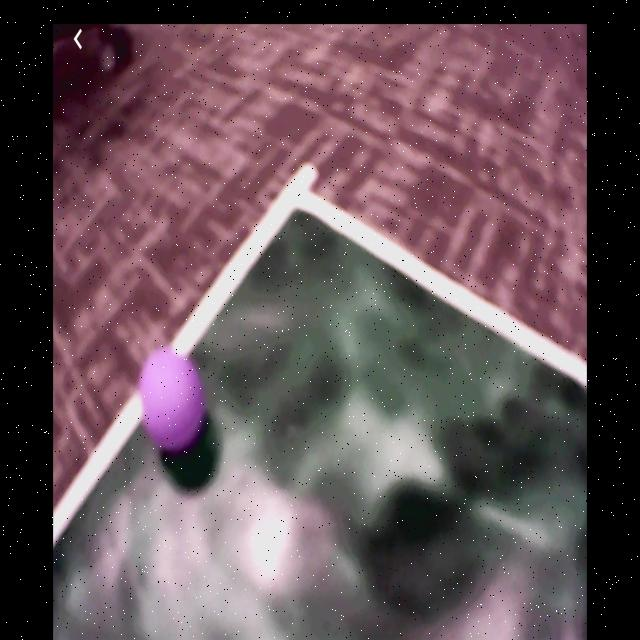ball: (142, 345, 209, 454)
